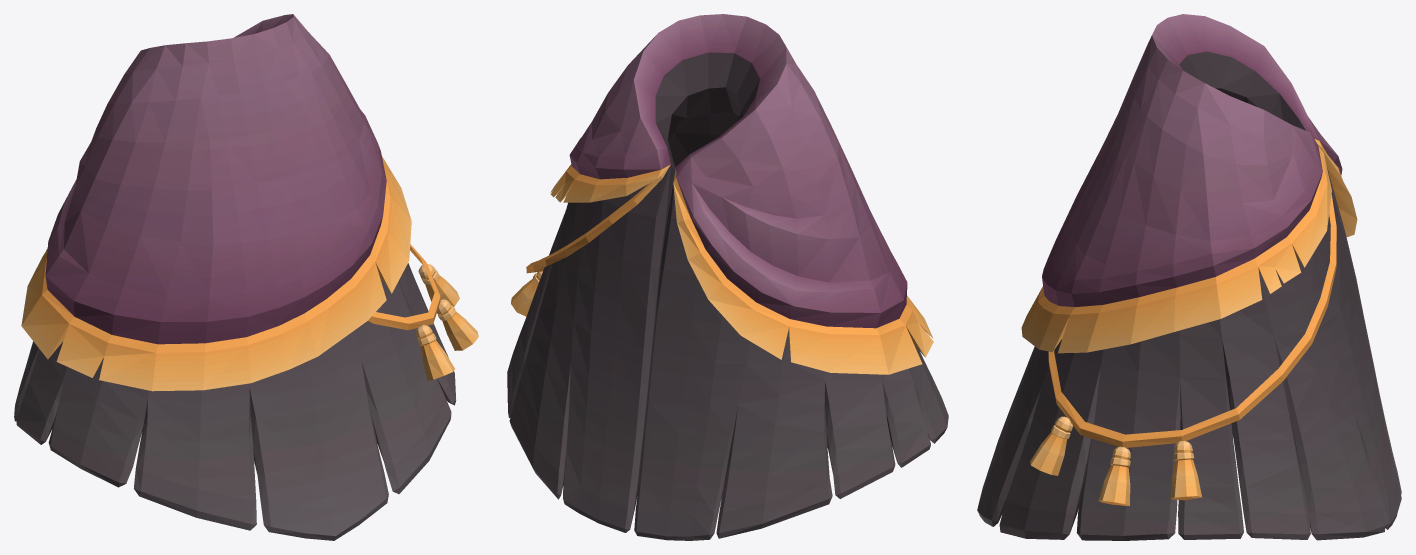
The model's file is CharSkyKid_Wing_AP06Layered_01.glb.
3 views of the same model, side by side, from view 1: azimuth 30°, elevation 25°; view 2: azimuth 150°, elevation 25°; view 3: azimuth 270°, elevation 25° (orthographic). The views are drawn at different scales.
Visible parts, largest first — view 1: CharSkyKid_Wing_AP06Layered_01; view 2: CharSkyKid_Wing_AP06Layered_01; view 3: CharSkyKid_Wing_AP06Layered_01.
Part boxes in pixels (x1,y1,x2,y2): CharSkyKid_Wing_AP06Layered_01: [14, 14, 478, 540]; CharSkyKid_Wing_AP06Layered_01: [507, 14, 948, 540]; CharSkyKid_Wing_AP06Layered_01: [977, 14, 1401, 540].
Bounding box in the file's own units: 6.79 × 6.95 × 5.56.
1 material, 1 textured.
